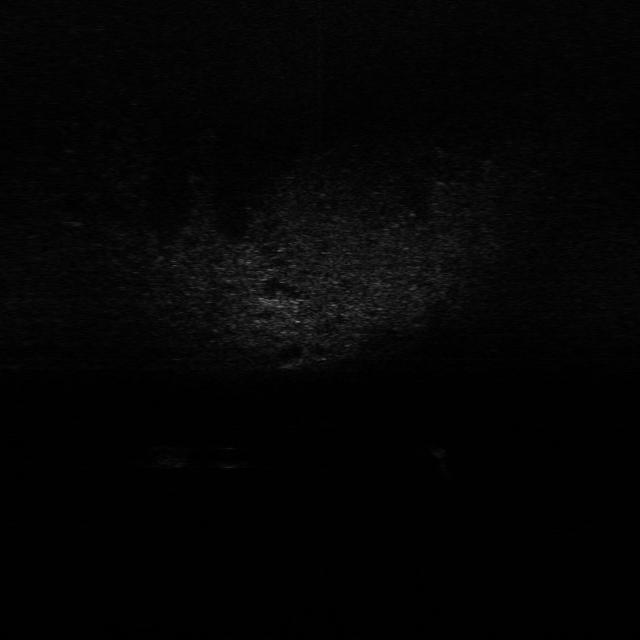ball: (213, 440, 248, 469)
circle cage: (147, 437, 197, 470)
cylinder: (432, 448, 451, 482)
